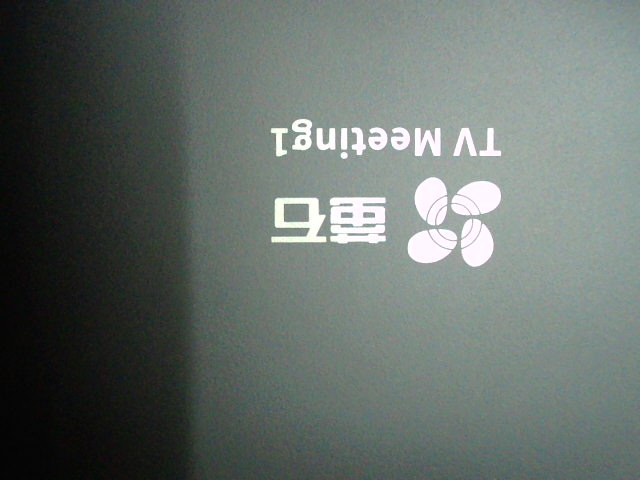BA_Yingshi: (265, 116, 504, 272)
